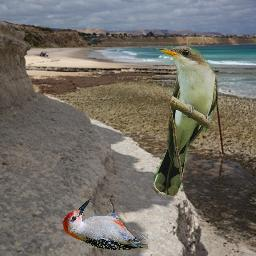Cuckoo: (153, 46, 219, 196)
Woodpecker: (63, 199, 148, 250)
